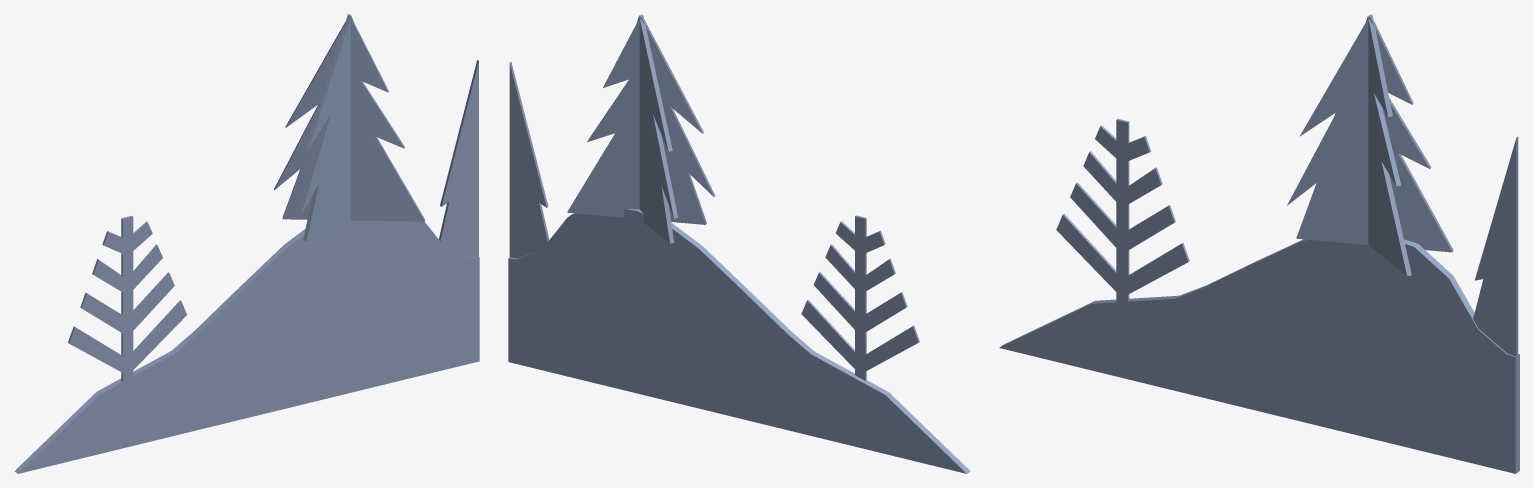
File: frame_0229.glb
The picture shows the model from 3 angles, left to right: view 1: azimuth 30°, elevation 25°; view 2: azimuth 150°, elevation 25°; view 3: azimuth 330°, elevation 25°; orthographic projection. The views are drawn at different scales.
Visible parts, largest first — view 1: export_trees_001.002; view 2: export_trees_001.002; view 3: export_trees_001.002.
Part boxes in pixels (box(x1,y1,x2,y2)): export_trees_001.002: box(14, 14, 479, 473); export_trees_001.002: box(508, 14, 970, 473); export_trees_001.002: box(999, 14, 1519, 473).
Size of the model in its own units: 0.2943 by 0.2304 by 0.0469.
